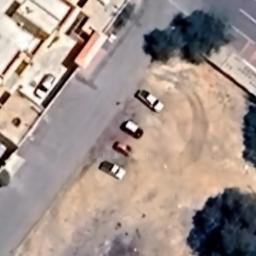pickup: (134, 87, 169, 115), (98, 158, 126, 182)
unknown: (112, 138, 136, 160), (120, 120, 146, 140)
van: (31, 70, 56, 100)
